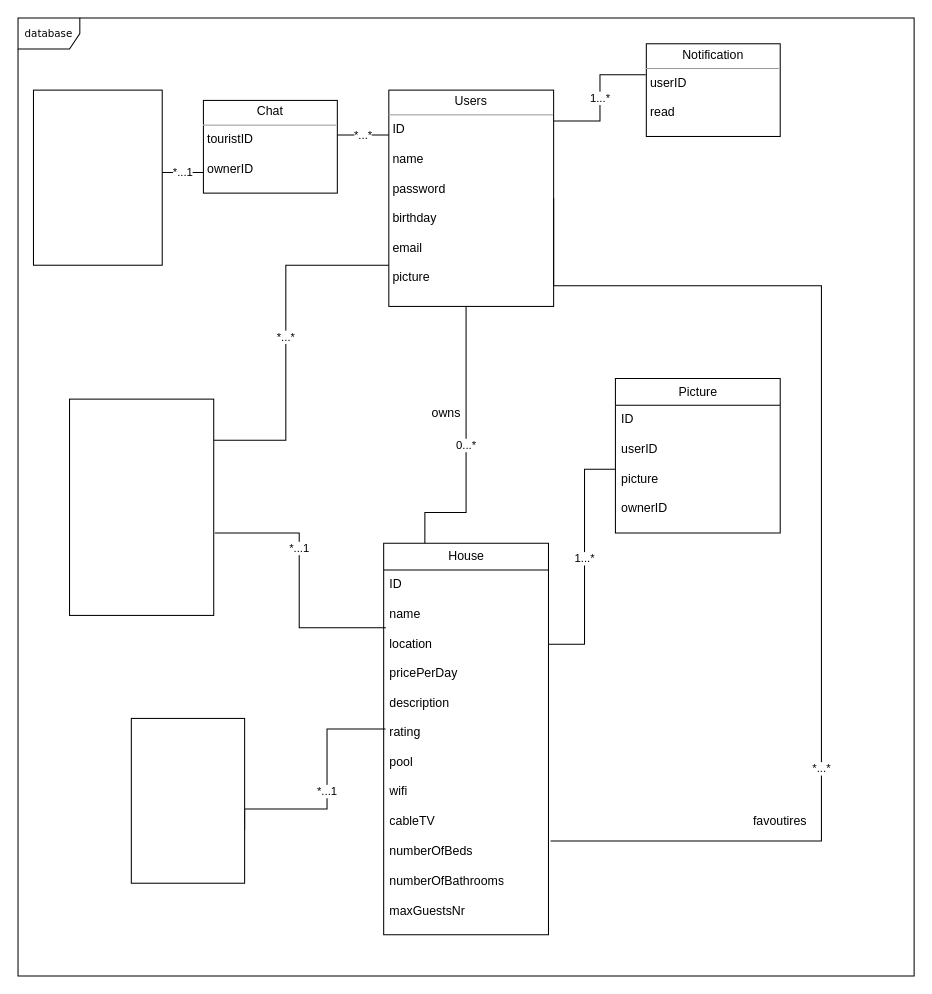
Image size: 932x994. Some labels were removed from this diagram. Each missing label, with the centre of its shape:
"Message senderID chatID date_time text read" goes at point (97, 177).
"Reservation ownerID touristID houseID arriveDate departureDate numberOfGuests" goes at point (141, 506).
"Review houseID userID comment rating ownerReply" goes at point (187, 800).
